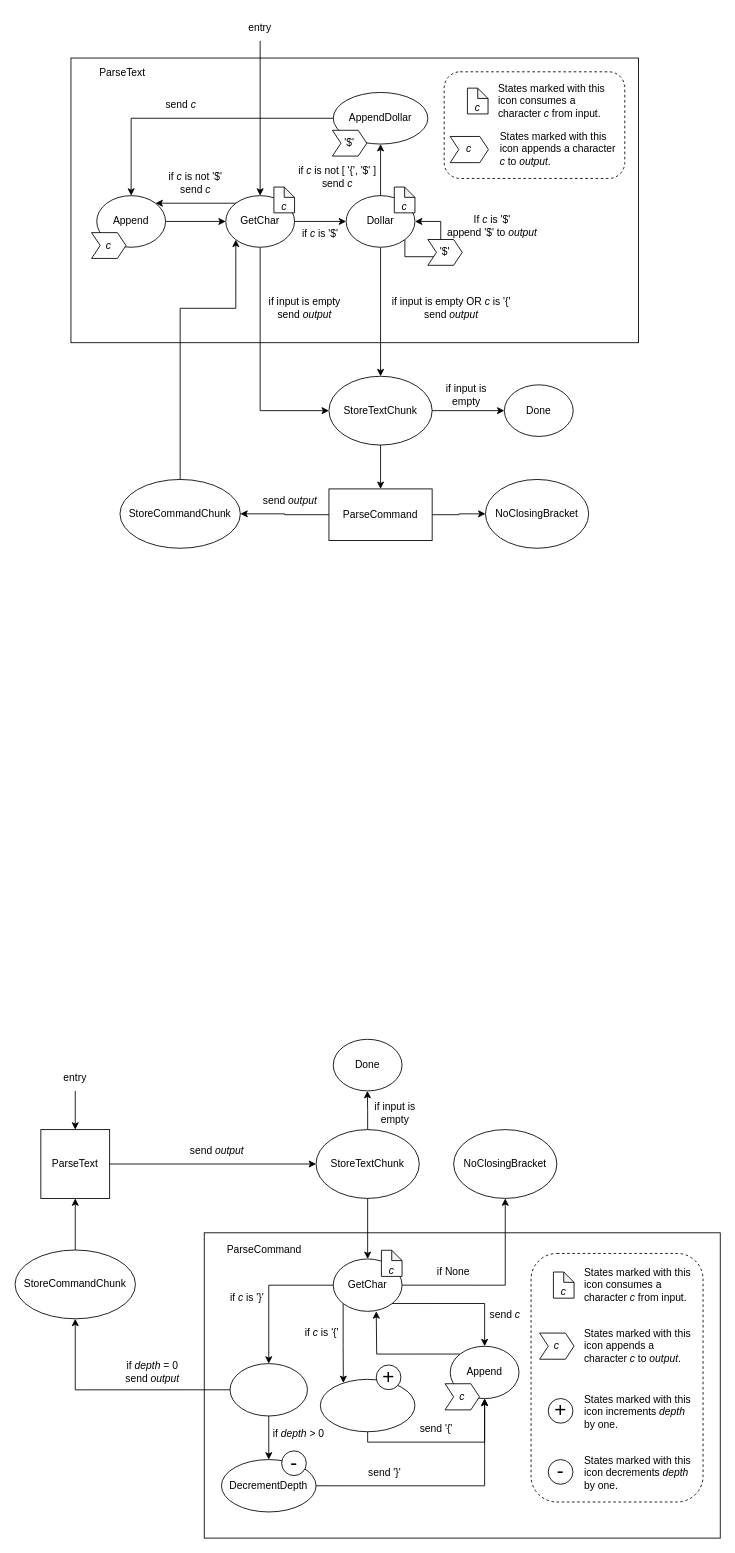
Some shapes in this 735 by 1553 pixel diagram are drawn without their labels. The centre of each missing label's shape, as x and y in pixels:
"IncrementDepth" belongs at pixel 367 1405.
"RightBracket" belongs at pixel 268 1389.
